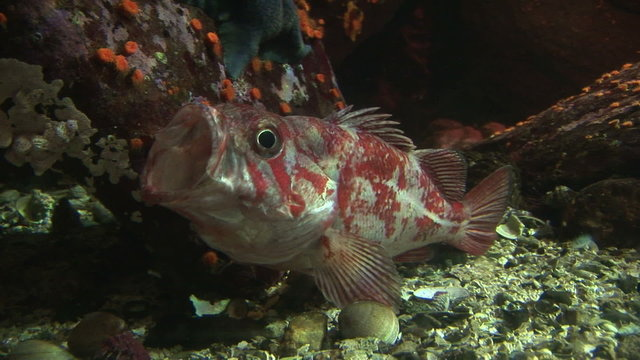Rock Fish: (130, 93, 563, 319)
